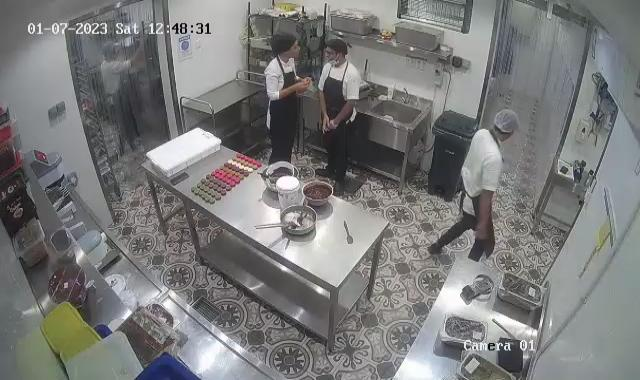hairnet: (489, 110, 520, 141)
no_hairnet: (271, 32, 302, 58), (324, 39, 350, 61)
